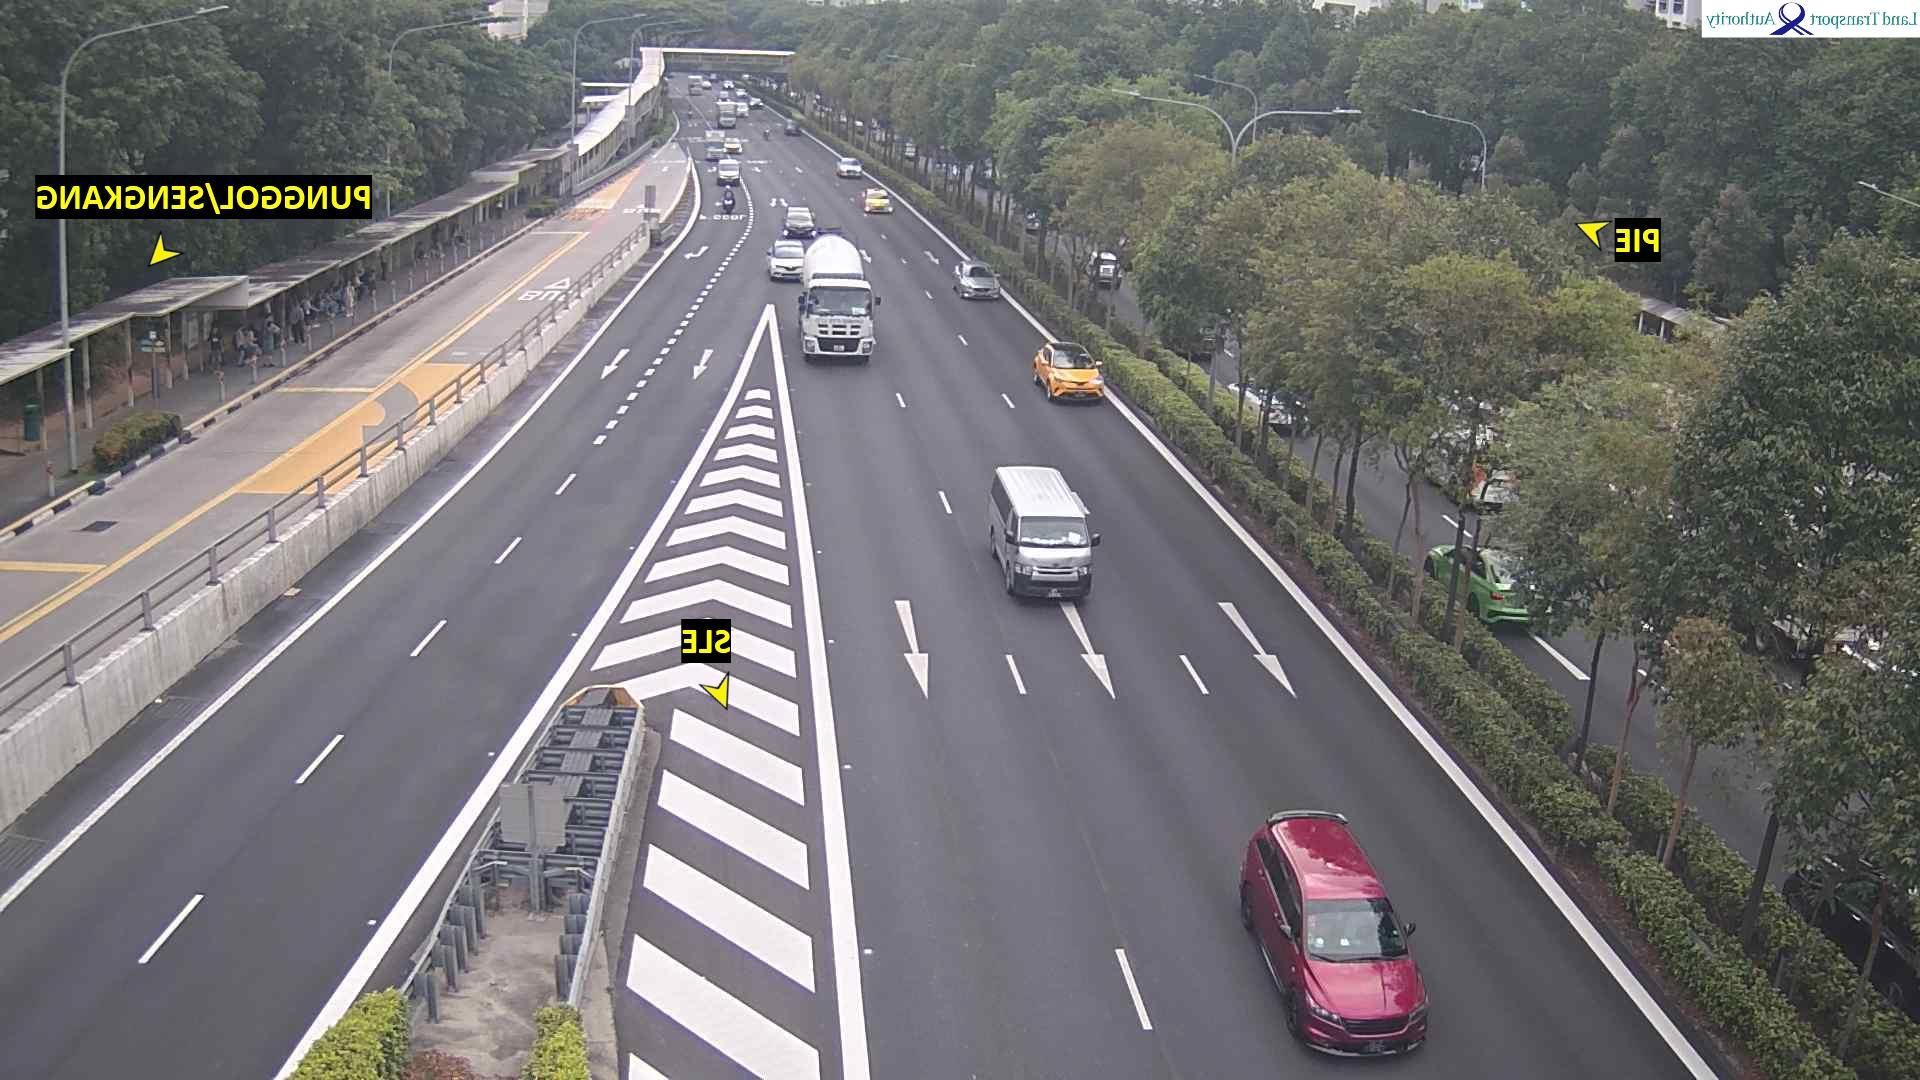cars: (1240, 807, 1431, 1058), (1780, 848, 1920, 1021), (988, 464, 1104, 601), (1424, 542, 1553, 626), (1229, 380, 1312, 436), (1034, 339, 1106, 404), (955, 258, 1002, 301), (767, 237, 807, 281), (1088, 249, 1124, 289), (782, 204, 818, 239), (862, 186, 894, 214), (716, 156, 742, 185), (705, 131, 728, 160), (837, 156, 864, 177), (719, 108, 738, 127), (725, 136, 744, 154), (688, 75, 704, 94), (785, 119, 802, 135), (749, 94, 764, 109)
motorcycle: (716, 189, 737, 215), (761, 123, 773, 142), (684, 104, 694, 120)
trucks: (798, 232, 884, 363)
